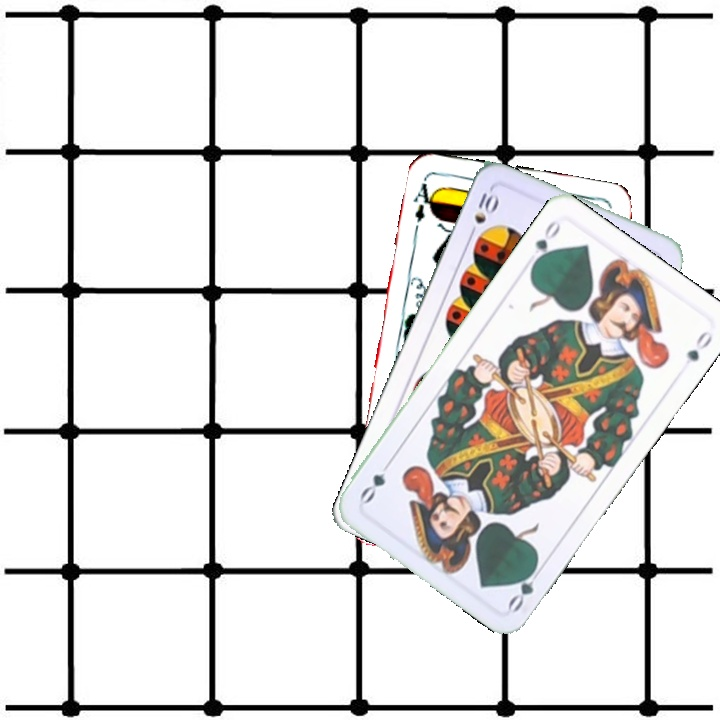EA: (409, 174, 439, 225)
GO: (503, 559, 547, 615), (527, 216, 563, 270)
S10: (464, 188, 501, 241)
